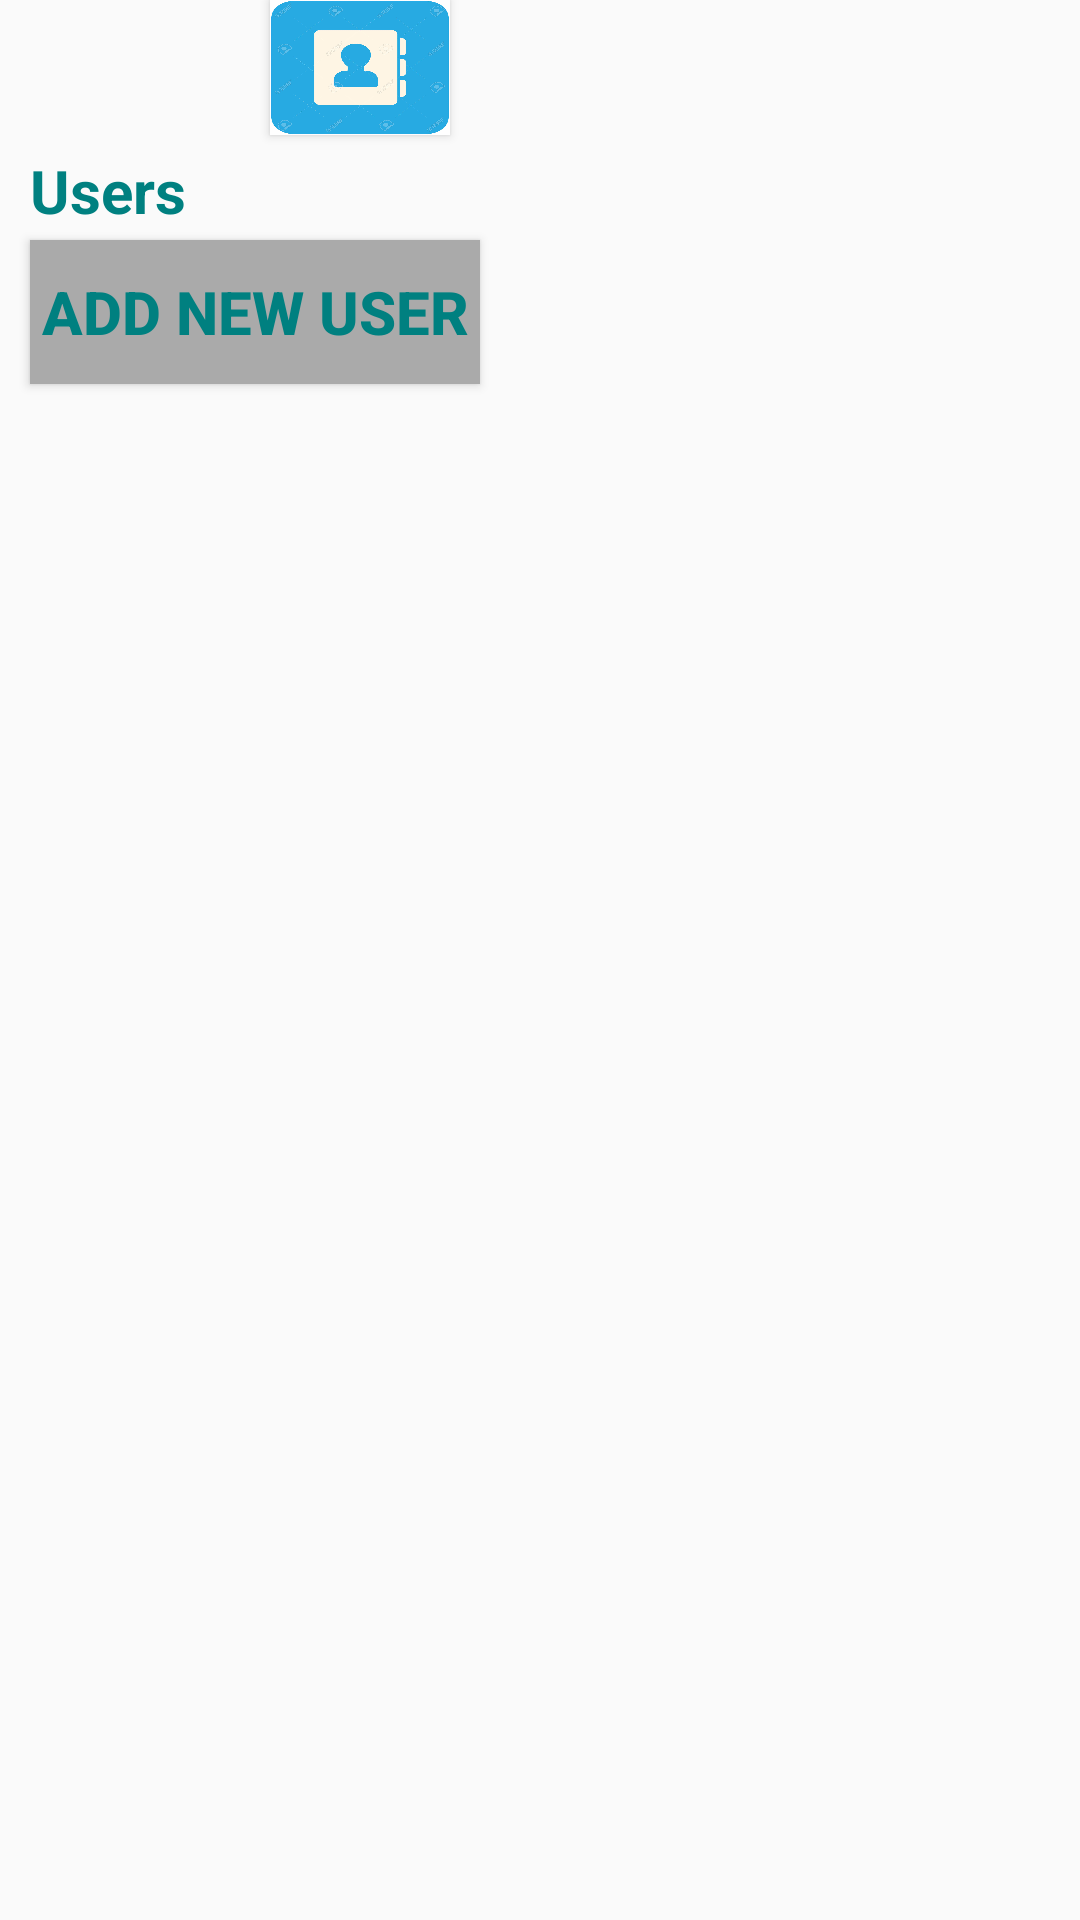

Screen size 1080px×1920px. Icon name, then its box in pixels as (x1, y1, x2, y2):
contact: (271, 1, 449, 134)
